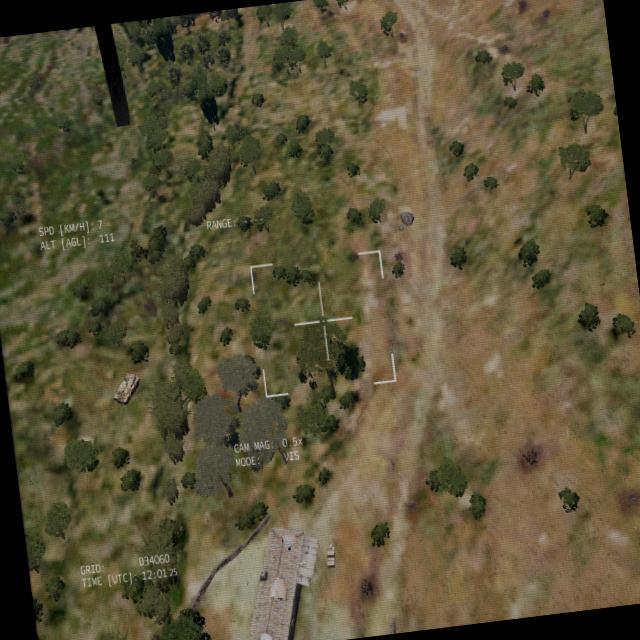tank: (105, 368, 143, 412)
